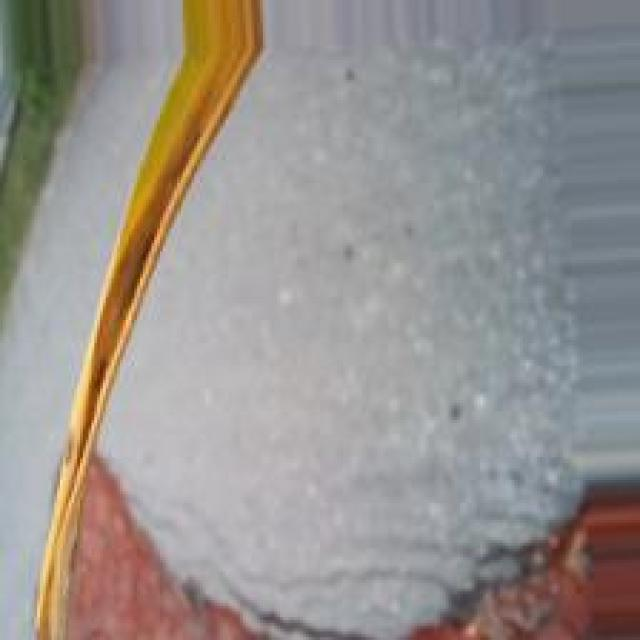Leaf_Scald: (78, 2, 263, 421)
